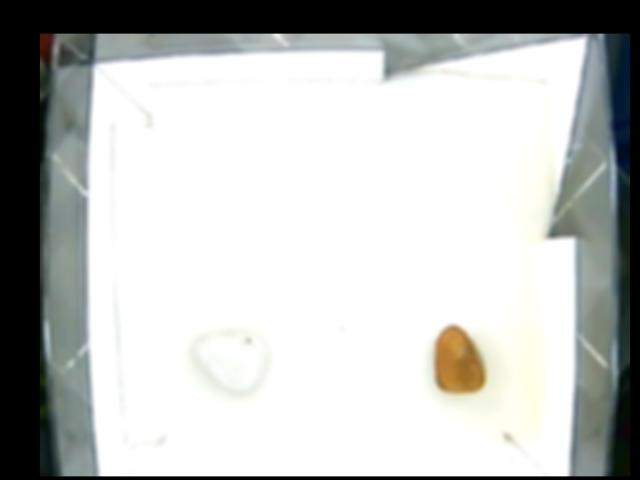Pebble: (194, 330, 269, 396), (433, 323, 487, 393)
